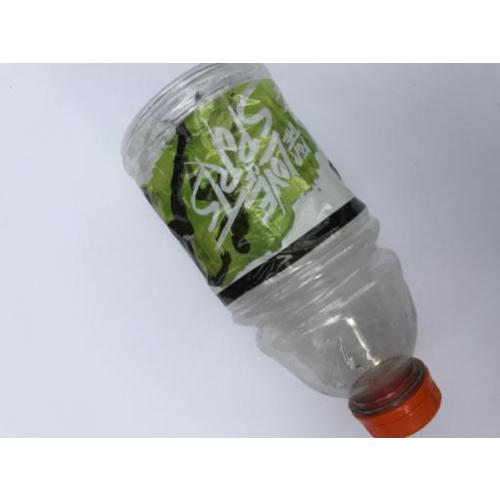plastic: (122, 65, 442, 437)
